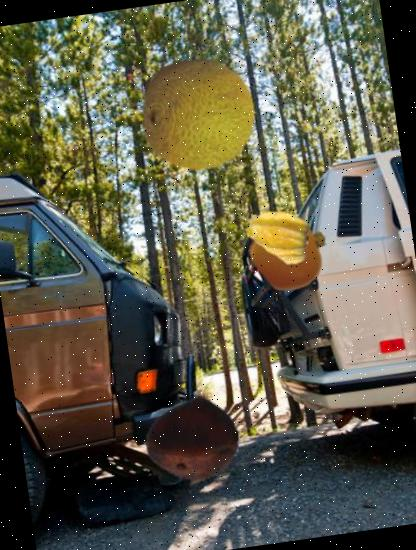Cantaloupe: (134, 49, 265, 180)
Chestnut: (138, 385, 244, 491)
Physalis: (249, 211, 334, 296), (242, 202, 314, 274)
